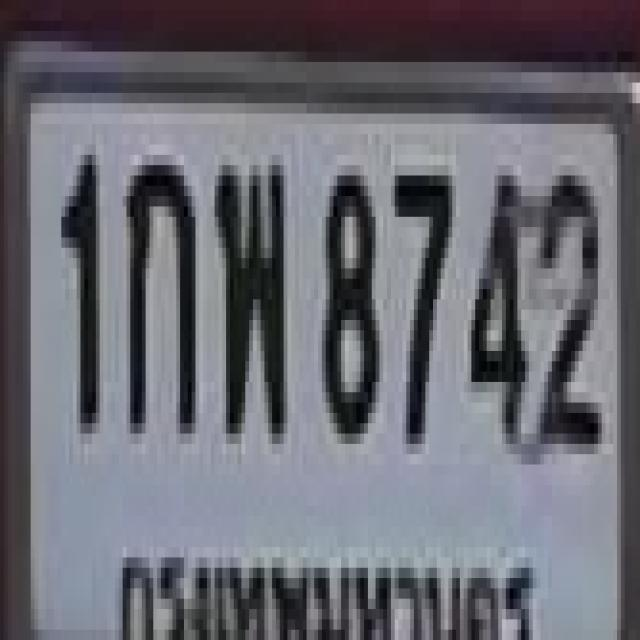1: (57, 145, 96, 423)
2: (533, 165, 594, 444)
4: (468, 165, 521, 434)
7: (391, 165, 448, 434)
8: (318, 165, 376, 434)
A01: (122, 155, 192, 423)
A30: (210, 155, 284, 433)
BKK: (108, 520, 548, 640)
